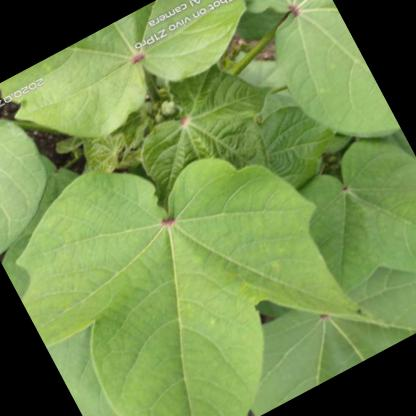cotton: (0, 85, 389, 416)
